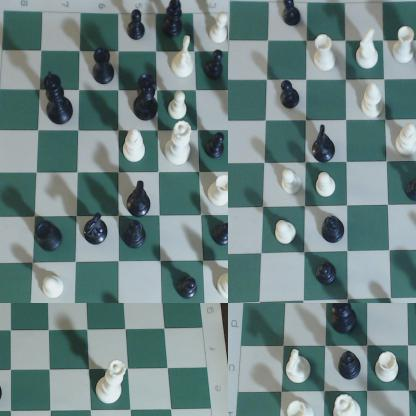black-bishop: (126, 218, 151, 254), (336, 348, 363, 381), (164, 1, 186, 41), (323, 213, 348, 246)
black-king: (44, 70, 75, 127)
black-knight: (311, 126, 339, 166), (125, 179, 152, 219), (83, 213, 111, 247)
black-pawn: (176, 268, 205, 303), (126, 8, 149, 48), (206, 134, 228, 168), (203, 52, 227, 83), (281, 79, 302, 113), (315, 260, 341, 287), (279, 1, 303, 29), (214, 219, 228, 256), (408, 175, 416, 204)
black-queen: (133, 73, 160, 122), (330, 304, 360, 336)
black-rook: (37, 215, 67, 257), (90, 47, 116, 89)
white-bishop: (120, 126, 149, 167), (362, 81, 386, 122), (391, 124, 416, 160), (216, 269, 228, 301)
white-knight: (356, 29, 381, 73), (171, 38, 197, 79), (288, 348, 315, 386)
white-pawn: (275, 166, 304, 199), (209, 8, 228, 51), (313, 173, 340, 202), (275, 216, 298, 250), (169, 92, 191, 125), (44, 272, 61, 300)
white-queen: (94, 359, 131, 409), (164, 123, 193, 168), (330, 394, 365, 416)
white-rook: (389, 23, 416, 68), (312, 33, 338, 76), (375, 351, 399, 383), (210, 172, 228, 213), (287, 399, 319, 416)
